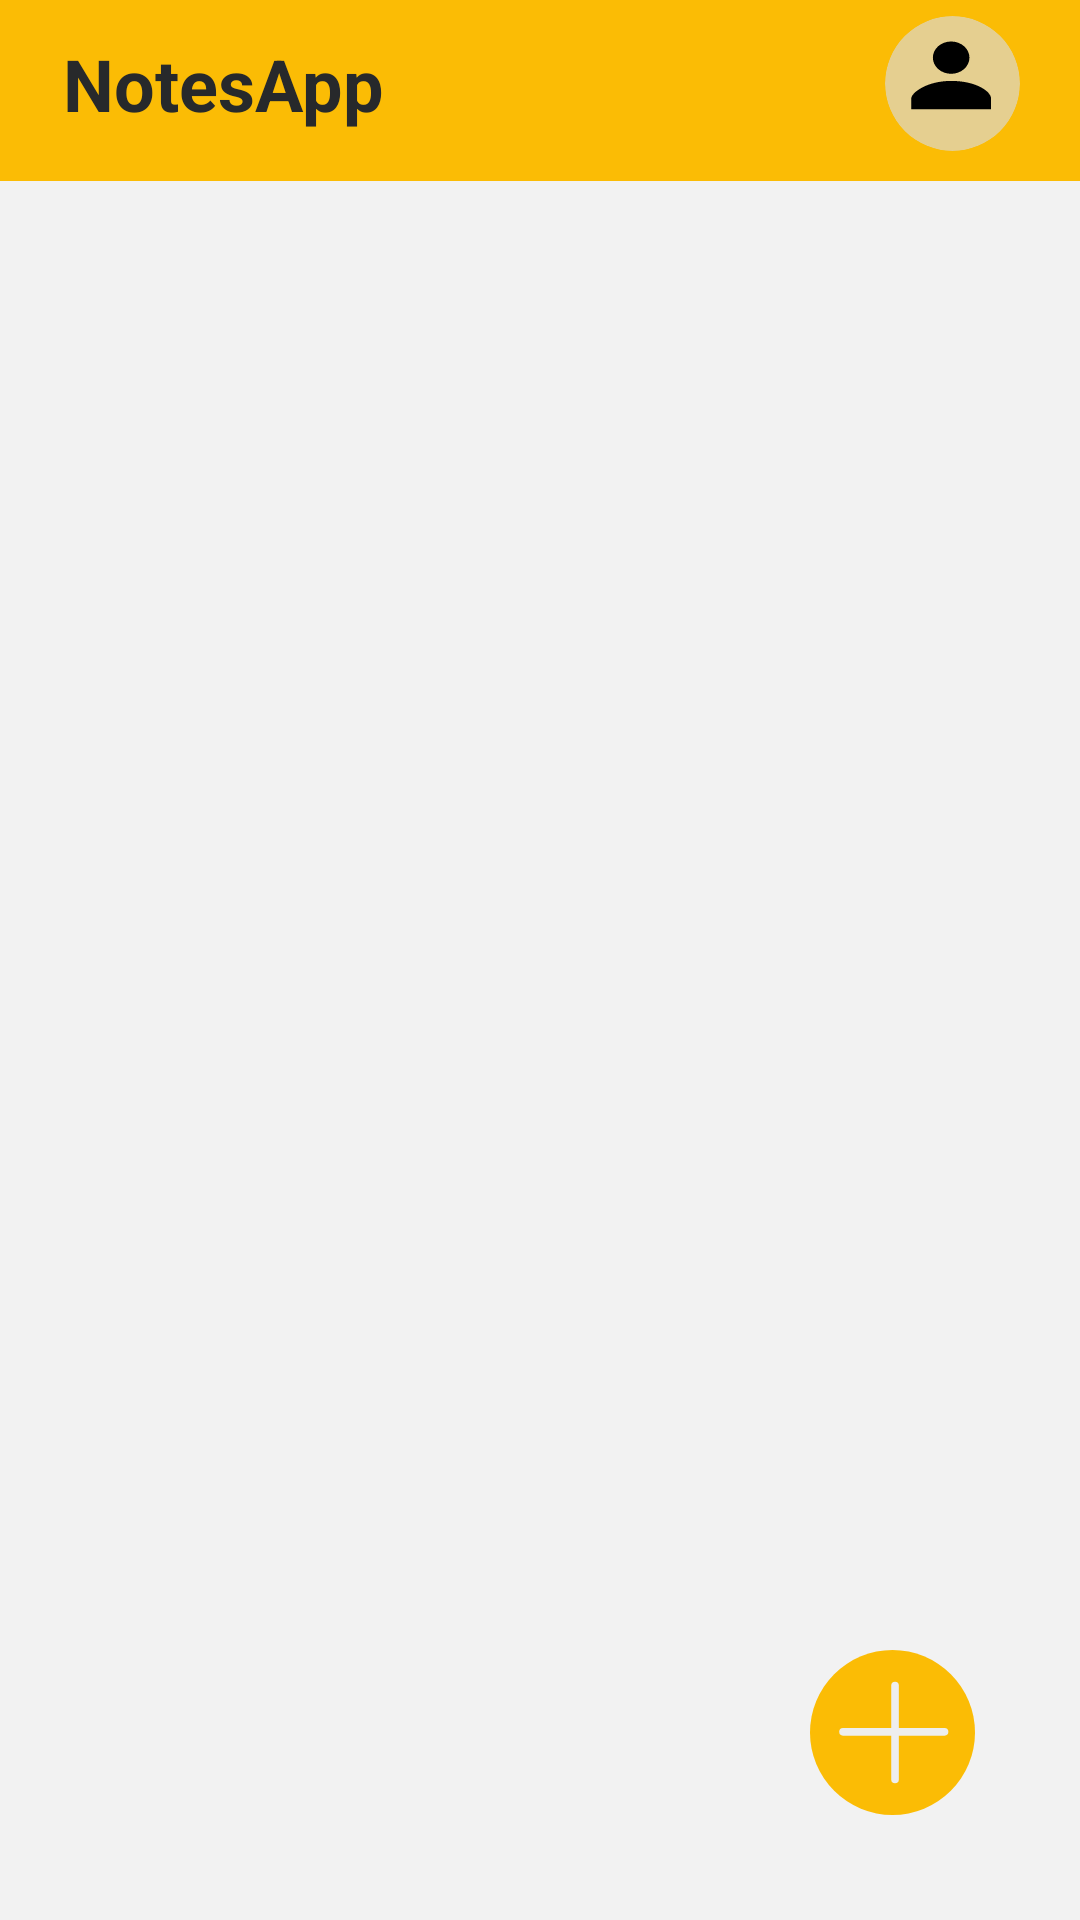

Named icons in this screenshot (1080 × 1920) and their centers, (x,y):
fab: (892,1732)
